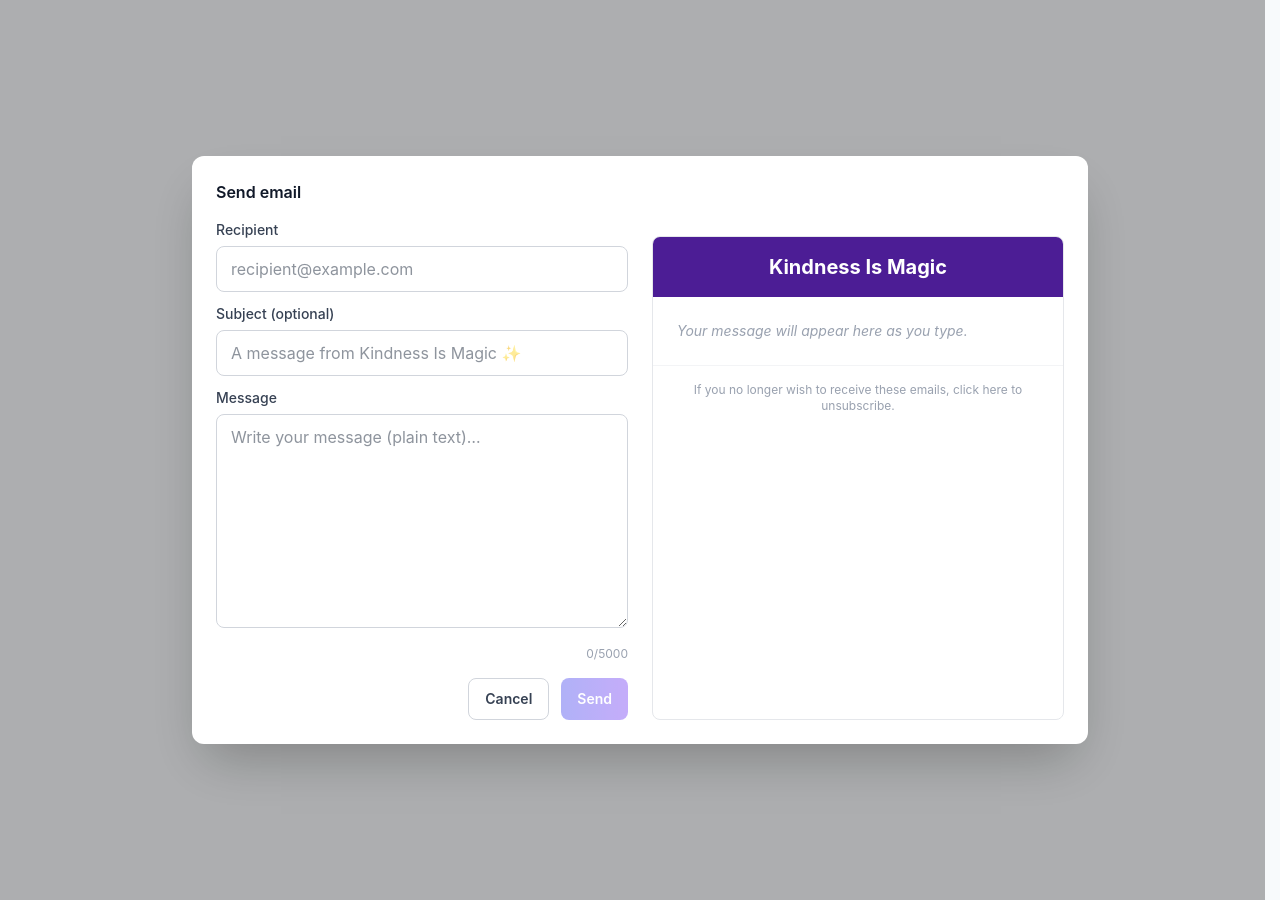
it: AdminEmailComposer › success: shows a success toast and closes
Type "rec@example.com" into the field labelled "Recipient" at (422, 269), box [216,246,628,292]
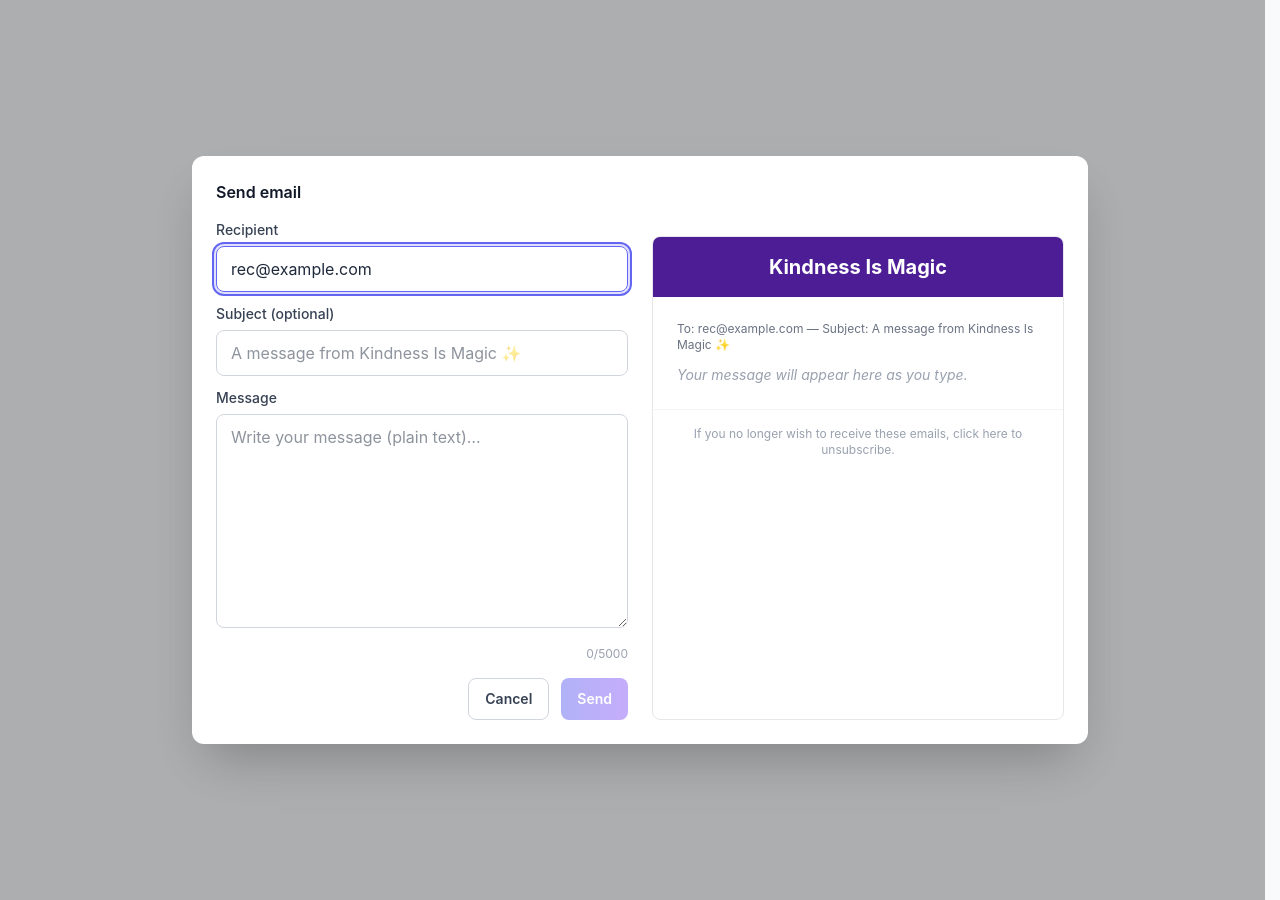
Type "Hi there" into the field labelled "Subject (optional)" at (422, 353), box [216,330,628,376]
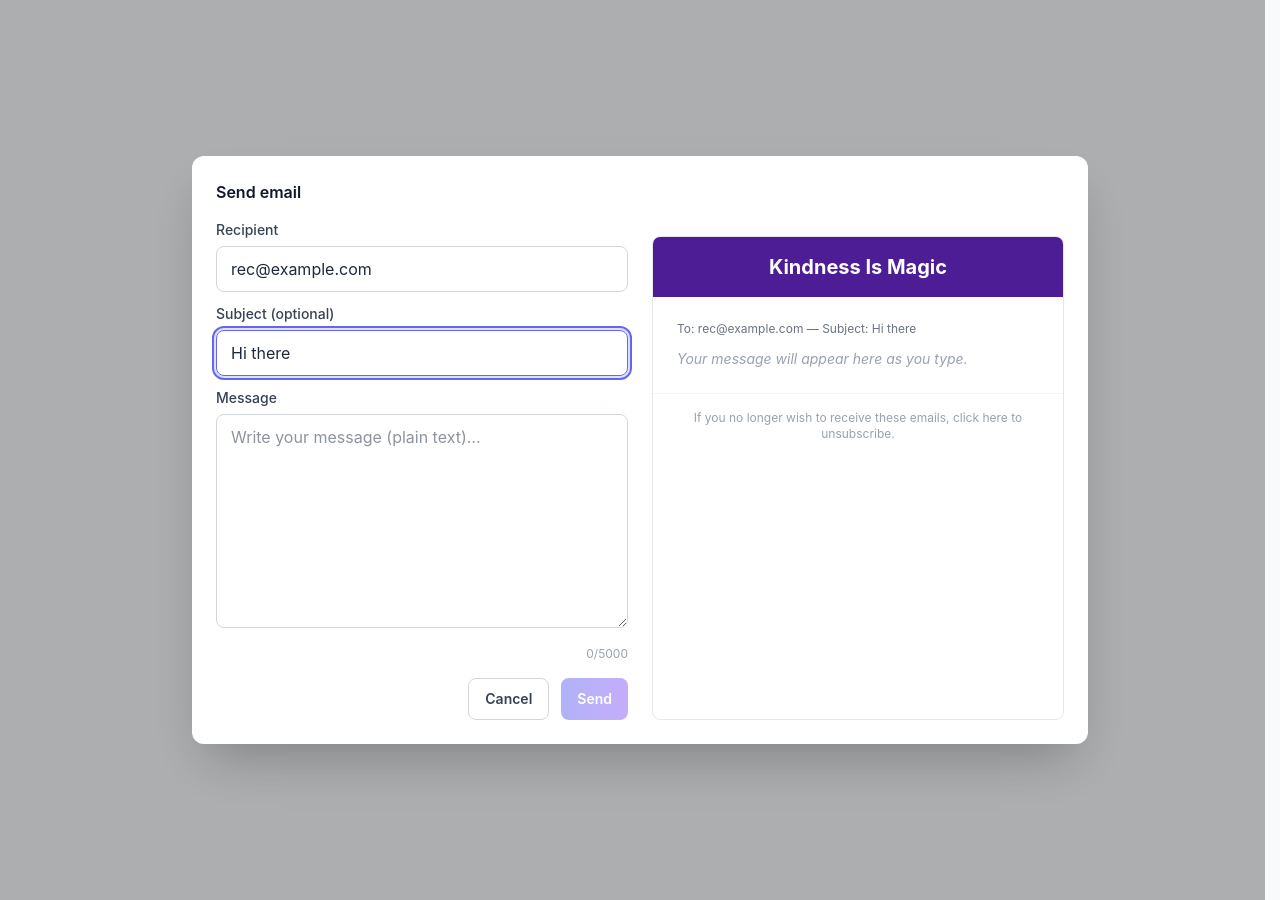
Type "Body text" into the text box labelled "Message" at (422, 521), box [216,414,628,628]
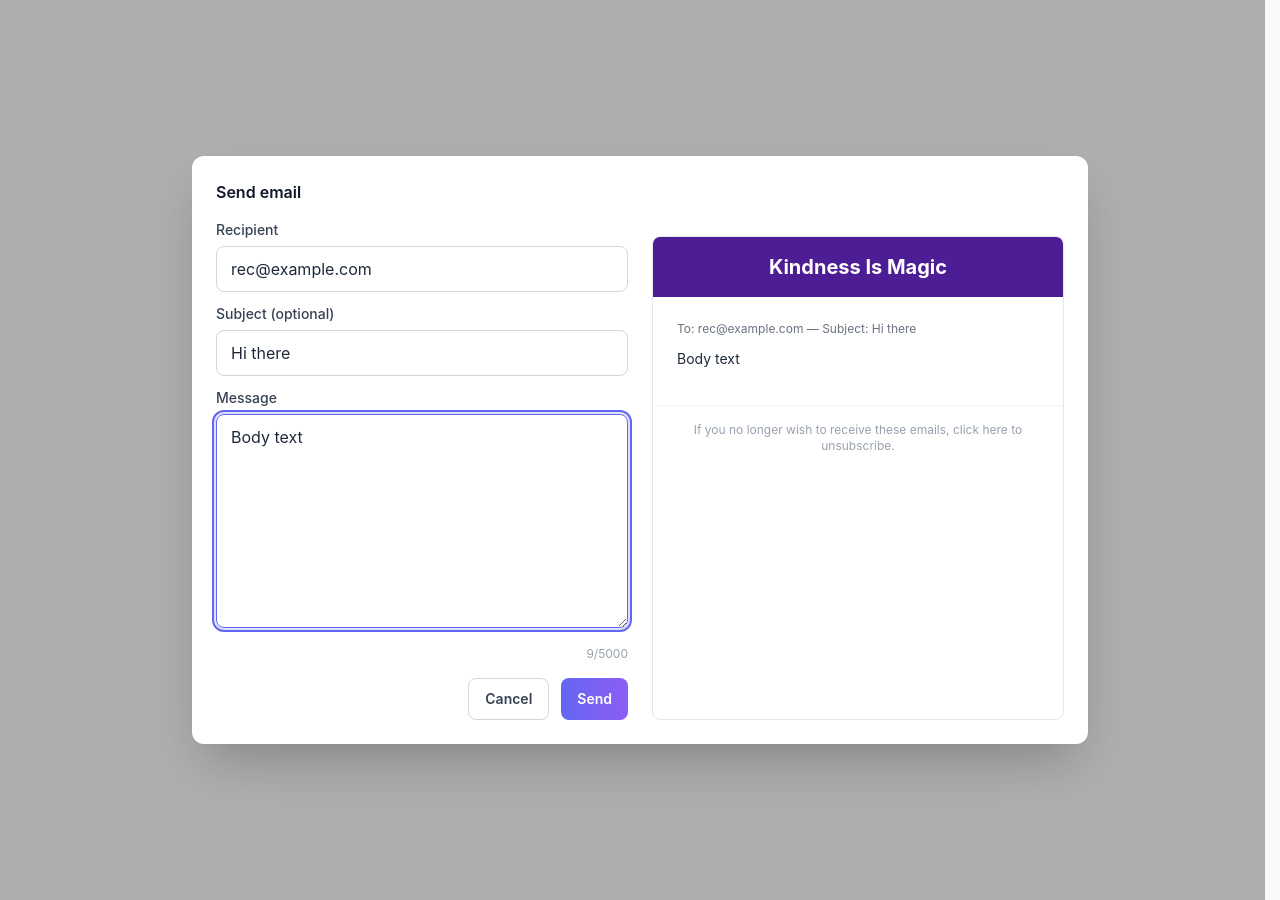
Click the button "Send" at (595, 699), box [561,678,628,720]
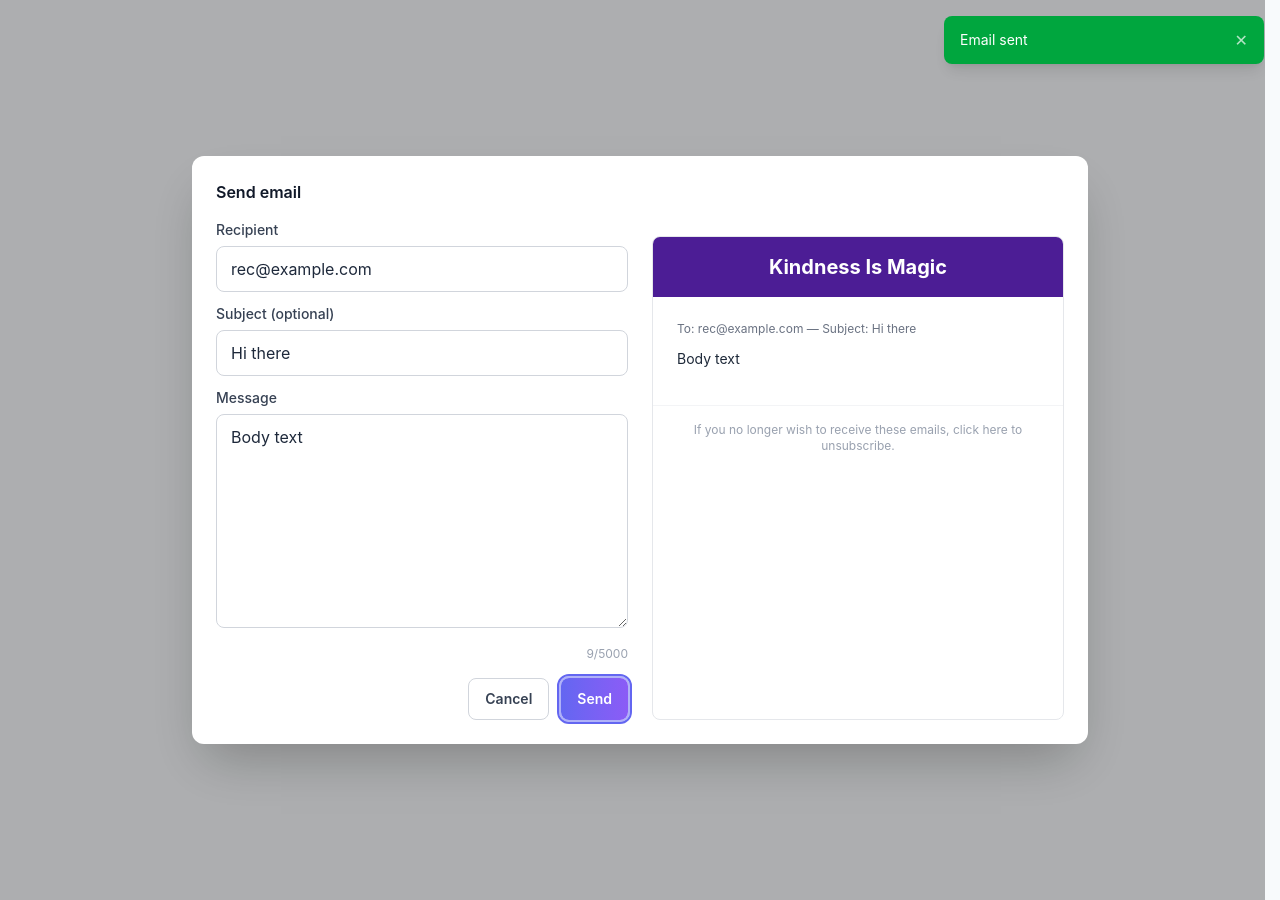
Expected: the text "Email sent" is shown, [960,31,1028,48]
